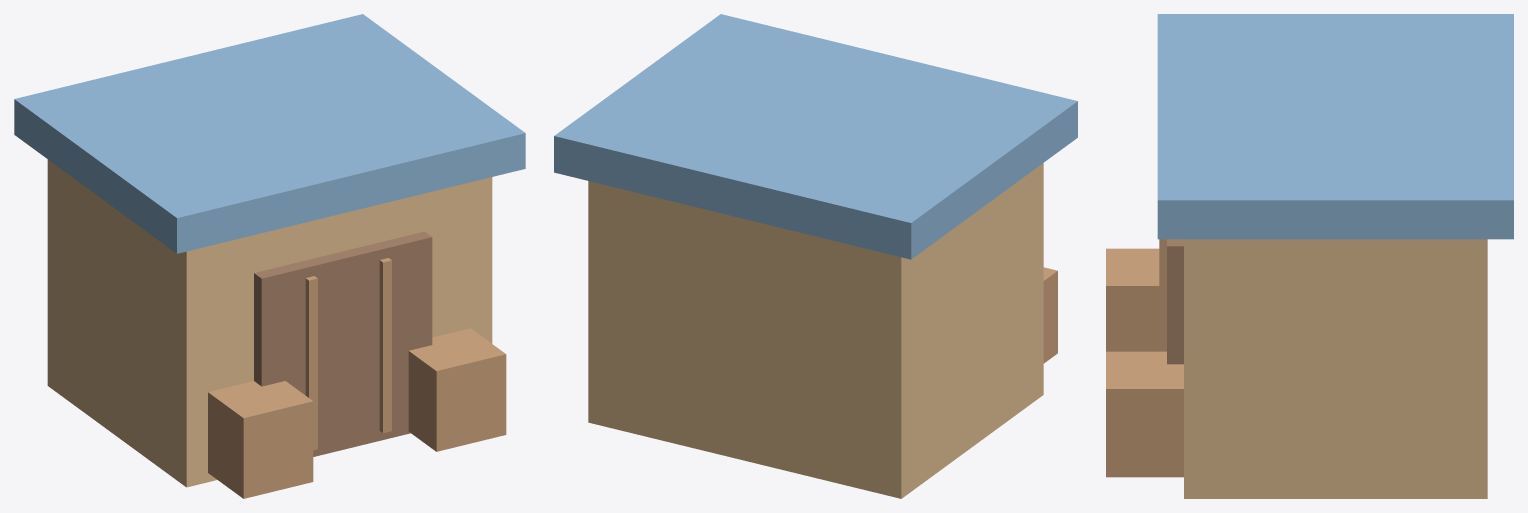
File: facility_warehouse.glb
The picture shows the model from 3 angles, left to right: view 1: azimuth 30°, elevation 25°; view 2: azimuth 150°, elevation 25°; view 3: azimuth 270°, elevation 25°; orthographic projection. The views are drawn at different scales.
Parts seen in each view (by area): view 1: roof, storage building, front double doors, crate stack, crate stack.001, right door stripe, left door stripe; view 2: storage building, roof, crate stack; view 3: roof, storage building, crate stack.001, crate stack, front double doors, right door stripe.
Part boxes in pixels (bbox=[...]): roof: bbox=[14, 14, 525, 253]; storage building: bbox=[47, 159, 492, 487]; front double doors: bbox=[254, 231, 432, 456]; crate stack: bbox=[208, 381, 313, 498]; crate stack.001: bbox=[408, 328, 506, 451]; right door stripe: bbox=[379, 258, 391, 433]; left door stripe: bbox=[305, 276, 317, 450]; storage building: bbox=[588, 163, 1043, 498]; roof: bbox=[554, 14, 1077, 259]; crate stack: bbox=[1043, 267, 1057, 363]; roof: bbox=[1157, 14, 1513, 239]; storage building: bbox=[1184, 239, 1487, 498]; crate stack.001: bbox=[1106, 351, 1183, 477]; crate stack: bbox=[1106, 248, 1159, 351]; front double doors: bbox=[1167, 239, 1183, 364]; right door stripe: bbox=[1159, 239, 1166, 351].
Size of the model in its own units: 2.35 by 1.83 by 2.17.
